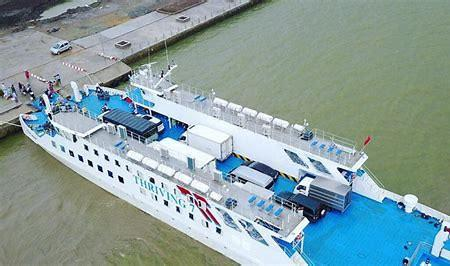Ship: (20, 65, 450, 266)
